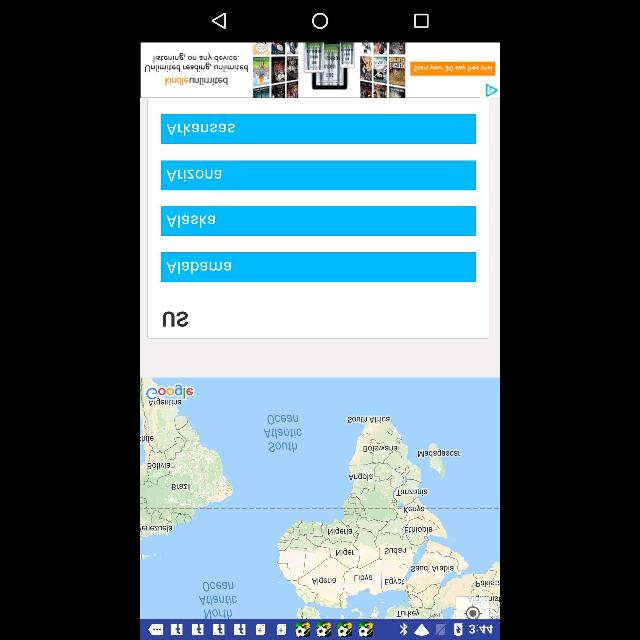icon: (212, 13, 228, 27), (312, 14, 328, 28), (414, 13, 428, 27)
iframe: (140, 43, 500, 99)
map: (140, 377, 500, 619)
panel: (146, 103, 488, 337), (141, 1, 499, 44)
text: (163, 311, 189, 329)
textbutton: (161, 253, 475, 283), (160, 207, 476, 235), (160, 162, 476, 190), (162, 116, 476, 142)
uppertaskbar: (140, 620, 500, 640)
